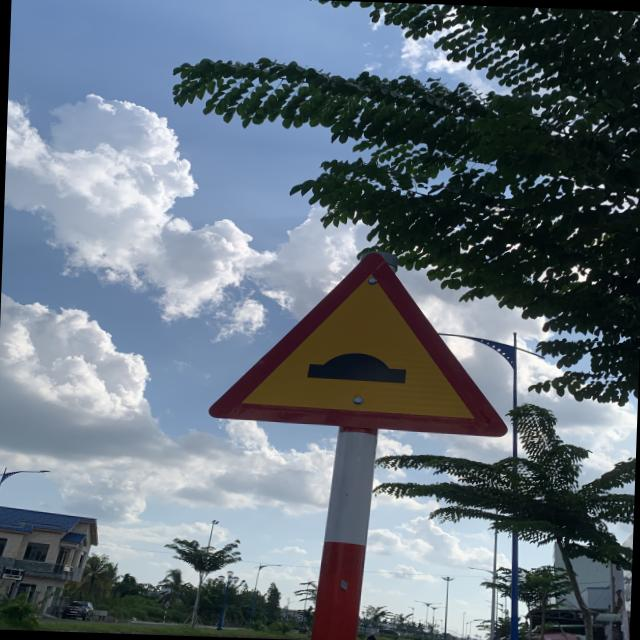Duong_Cong_Ben_Phai: (208, 244, 510, 436)
